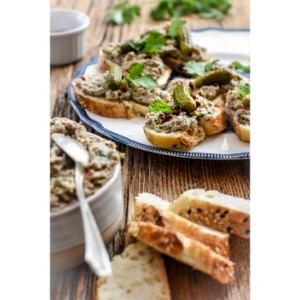sardine_brain food: (102, 38, 232, 143), (50, 114, 98, 209)
